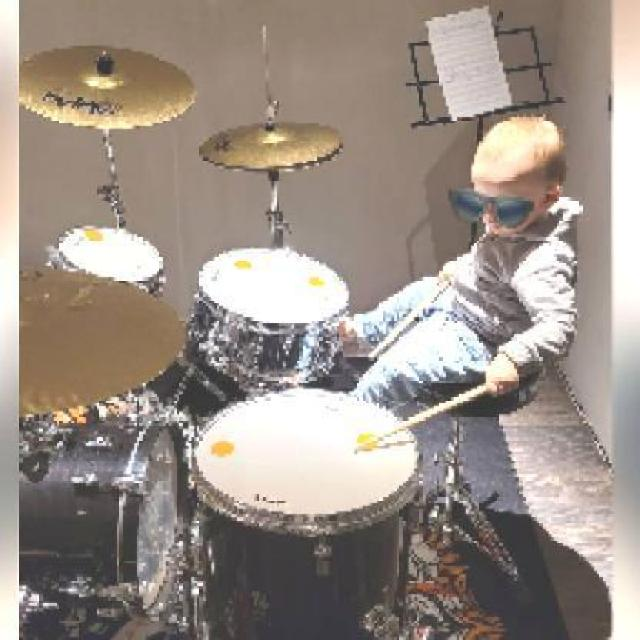child: (337, 114, 586, 409)
